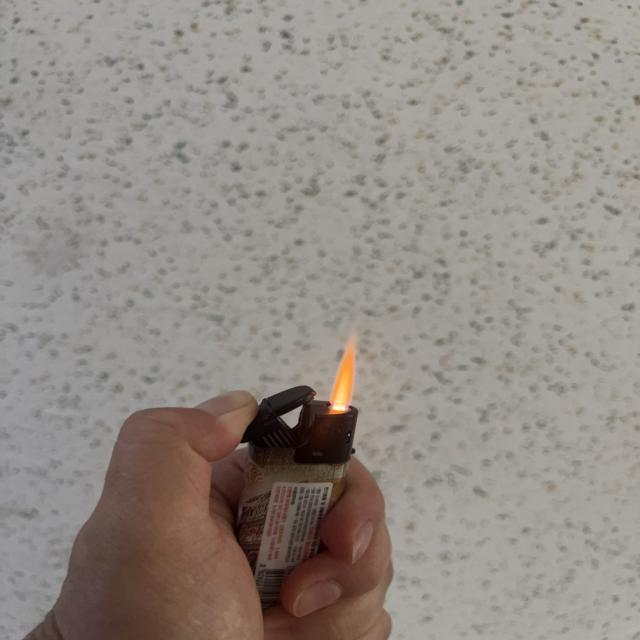fire: (328, 344, 358, 408)
